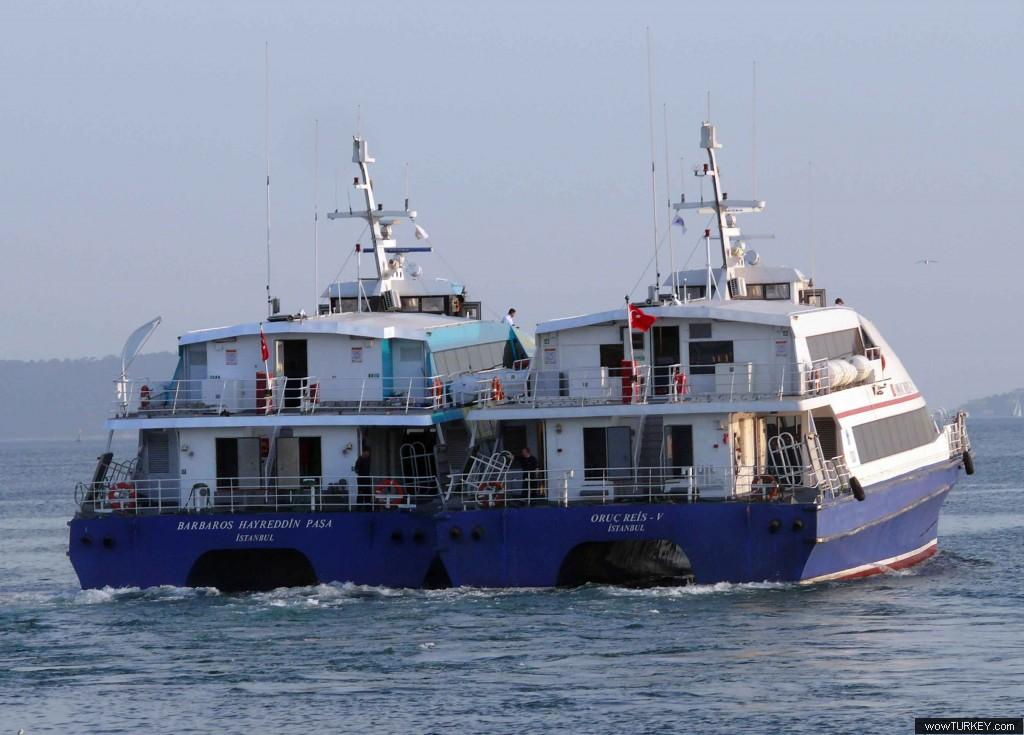PassengerShip: (435, 70, 983, 612), (69, 108, 499, 610)
